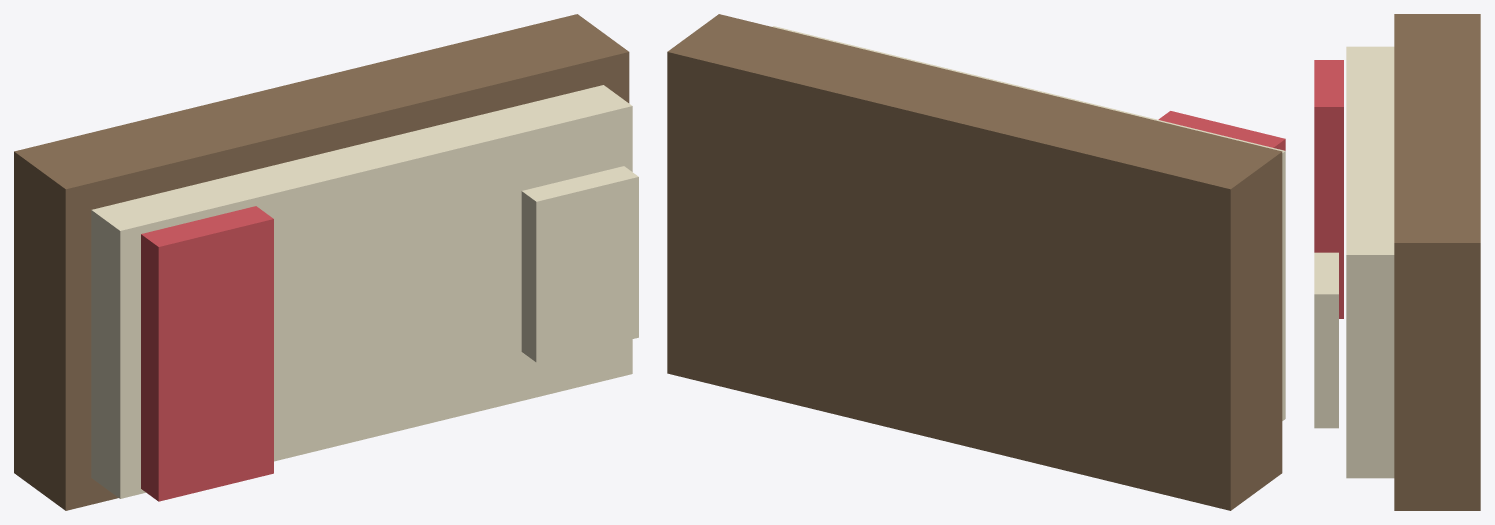
File: shop_inn_bed.glb
3 views of the same model, side by side, from view 1: azimuth 30°, elevation 25°; view 2: azimuth 150°, elevation 25°; view 3: azimuth 270°, elevation 25° (orthographic). The views are drawn at different scales.
Parts seen in each view (by area): view 1: mattress, frame, blanket, pillow; view 2: frame, mattress, blanket; view 3: frame, mattress, blanket, pillow.
Boxes of the visible parts, x1=… form: mattress: x1=91, y1=85, x2=632, y2=498; frame: x1=14, y1=14, x2=629, y2=510; blanket: x1=141, y1=206, x2=273, y2=501; pillow: x1=521, y1=166, x2=638, y2=362; frame: x1=667, y1=14, x2=1282, y2=510; mattress: x1=772, y1=26, x2=1285, y2=420; blanket: x1=1158, y1=111, x2=1285, y2=150; frame: x1=1394, y1=14, x2=1480, y2=510; mattress: x1=1346, y1=46, x2=1394, y2=478; blanket: x1=1314, y1=60, x2=1343, y2=318; pillow: x1=1314, y1=252, x2=1338, y2=428.
Size of the model in its own units: 2.2 by 1.2 by 0.675.
